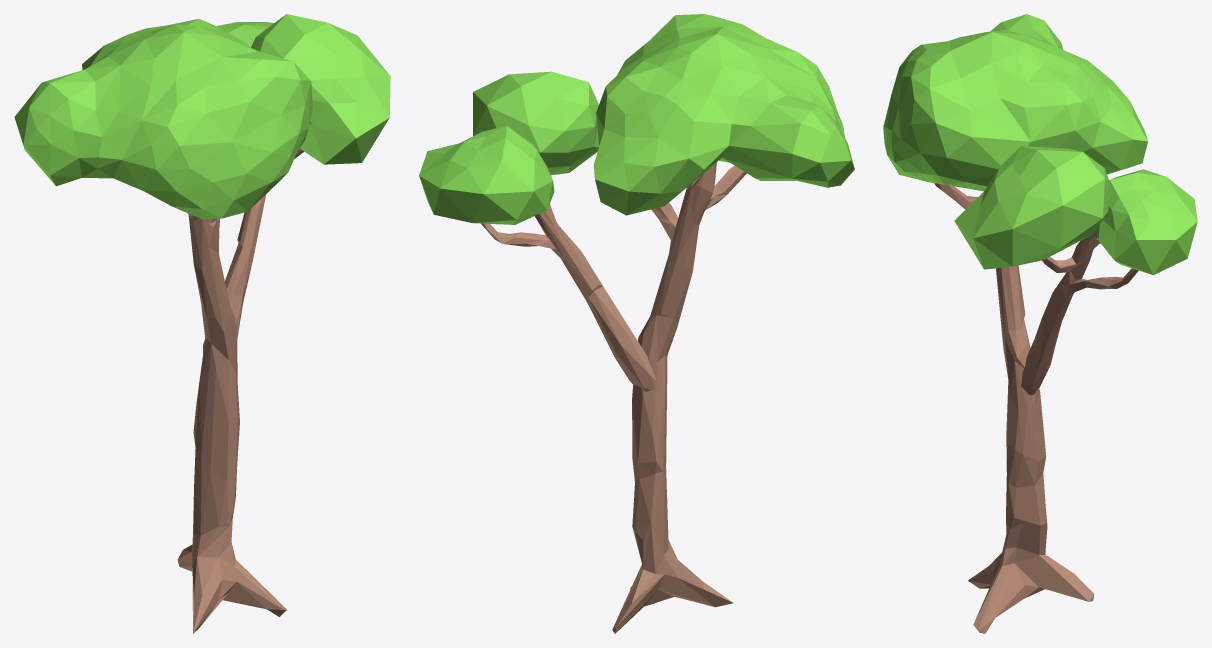
The model's file is Ash2.fbx.
The picture shows the model from 3 angles, left to right: view 1: azimuth 30°, elevation 25°; view 2: azimuth 150°, elevation 25°; view 3: azimuth 270°, elevation 25°; orthographic projection. The views are drawn at different scales.
Visible parts, largest first — view 1: Ash2; view 2: Ash2; view 3: Ash2.
Part boxes in pixels (bbox=[...]): Ash2: bbox=[14, 14, 390, 633]; Ash2: bbox=[419, 14, 854, 633]; Ash2: bbox=[883, 14, 1197, 633].
Size of the model in its own units: 3961 by 6192 by 3150.
